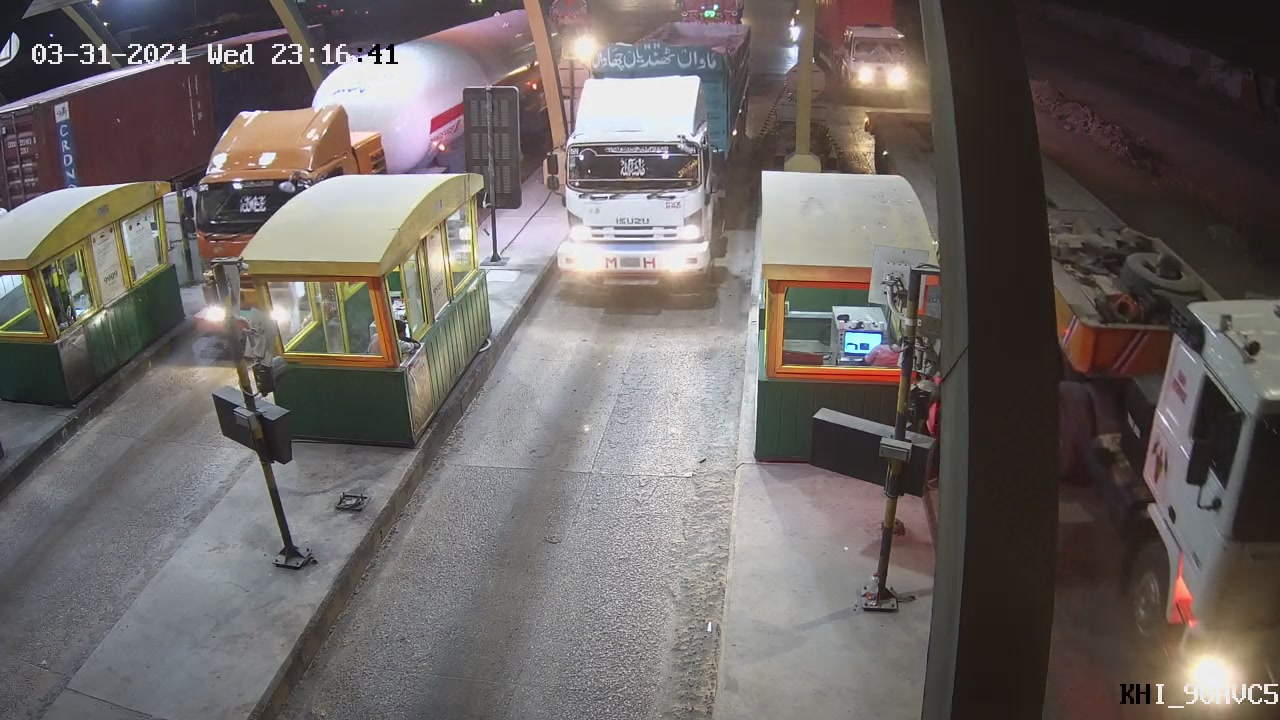F5: (550, 8, 762, 316)
